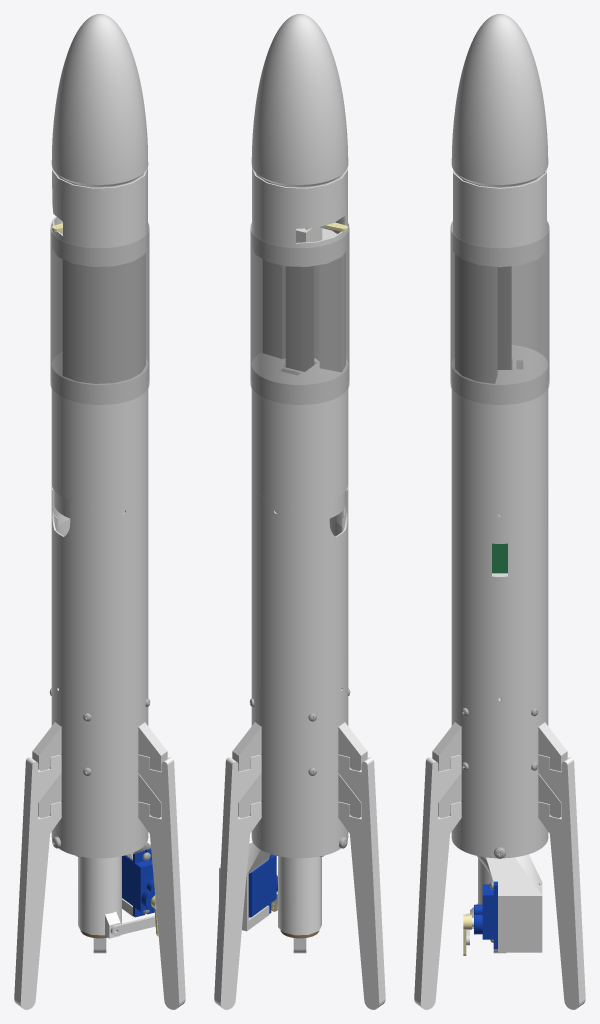
Rendered from DH_RKT_15.obj.
3 renders of one model, left to right at view 1: azimuth 30°, elevation 25°; view 2: azimuth 150°, elevation 25°; view 3: azimuth 270°, elevation 25°, orthographic.
Parts seen in each view (by area): view 1: Solid1:22, Solid1:11, Solid1:29, Solid2:4, Solid1:27, Solid1:31, Solid1:28, Solid1:23, Solid1:24, Solid1:2, Твердое тело1, Solid1:10; view 2: Solid1:22, Solid1:11, Solid1:29, Solid1:27, Solid2:4, Solid1:28, Solid1:23, Solid1:25, Solid1:31, Solid1:2, Solid1:30, Твердое тело1 (+1 smaller); view 3: Solid1:22, Solid1:11, Solid1:29, Solid2:4, Solid1:27, Solid1:28, Solid1:24, Solid1:25, Solid1:31, Solid1:3, Solid1:30, Твердое тело1 (+1 smaller).
Part boxes in pixels (<box>): Solid1:22: <box>51,485,148,689</box>; Solid1:11: <box>32,669,167,858</box>; Solid1:29: <box>50,222,149,404</box>; Solid2:4: <box>51,14,148,187</box>; Solid1:27: <box>51,352,148,518</box>; Solid1:31: <box>63,253,145,383</box>; Solid1:28: <box>52,167,147,266</box>; Solid1:23: <box>14,754,61,1009</box>; Solid1:24: <box>138,754,185,1009</box>; Solid1:2: <box>78,856,121,938</box>; Твердое тело1: <box>122,848,154,917</box>; Solid1:10: <box>110,915,155,935</box>; Solid1:22: <box>251,485,348,689</box>; Solid1:11: <box>232,669,367,858</box>; Solid1:29: <box>250,222,349,404</box>; Solid1:27: <box>251,352,348,518</box>; Solid2:4: <box>251,14,348,187</box>; Solid1:28: <box>252,167,347,266</box>; Solid1:23: <box>338,754,385,1009</box>; Solid1:25: <box>214,754,261,1009</box>; Solid1:31: <box>263,252,345,371</box>; Solid1:2: <box>278,856,321,935</box>; Solid1:30: <box>286,266,313,371</box>; Твердое тело1: <box>248,843,277,917</box>; Solid1:22: <box>451,485,548,699</box>; Solid1:11: <box>432,670,567,858</box>; Solid1:29: <box>450,221,549,405</box>; Solid2:4: <box>451,14,548,187</box>; Solid1:27: <box>451,345,548,515</box>; Solid1:28: <box>453,169,546,266</box>; Solid1:24: <box>414,754,461,1009</box>; Solid1:25: <box>538,754,585,1009</box>; Solid1:31: <box>455,254,497,383</box>; Solid1:3: <box>477,854,542,952</box>; Solid1:30: <box>498,266,511,369</box>; Твердое тело1: <box>472,881,497,949</box>.
Bounding box in the file's own units: 75.79 × 496 × 79.2.
